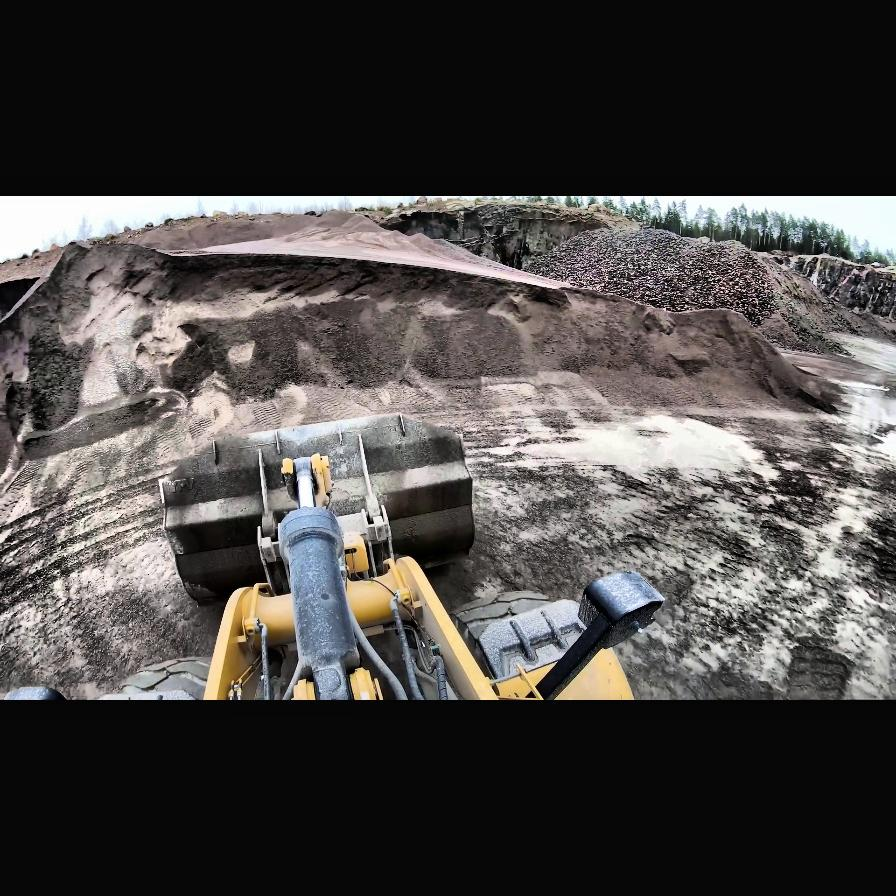anchor: (282, 452, 332, 509)
pile of gravel: (0, 242, 838, 458), (520, 227, 856, 358), (136, 209, 380, 253)
